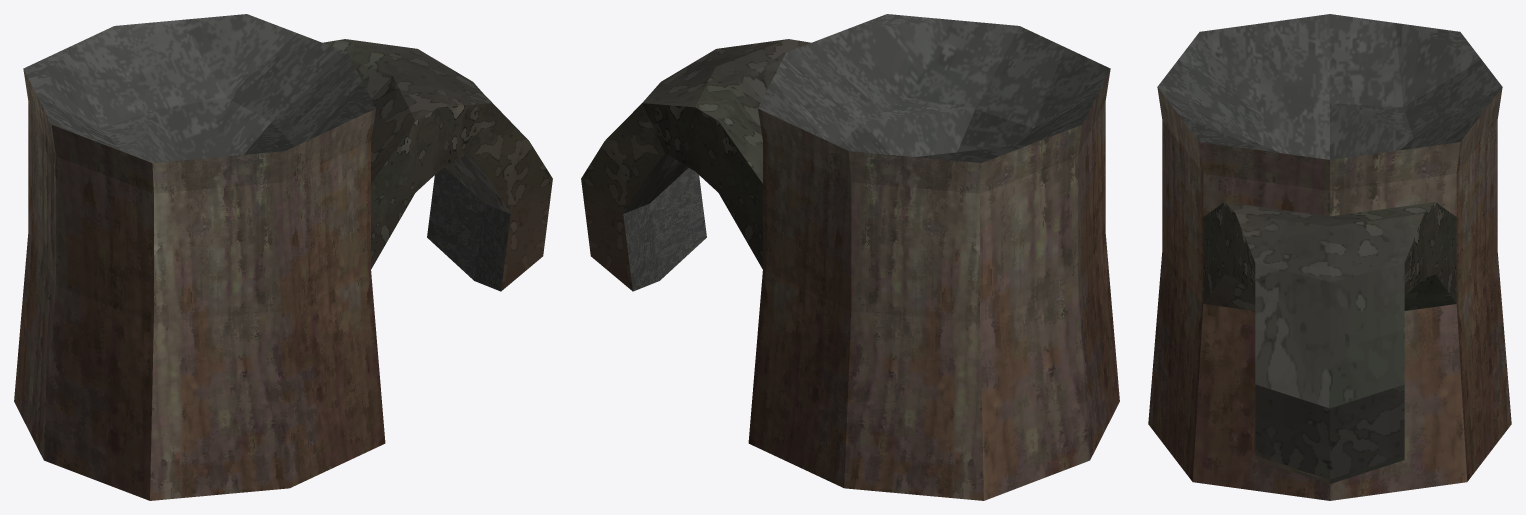
The model's file is beercup.fbx.
3 views of the same model, side by side, from view 1: azimuth 30°, elevation 25°; view 2: azimuth 150°, elevation 25°; view 3: azimuth 270°, elevation 25° (orthographic).
Visible parts, largest first — view 1: Cube; view 2: Cube; view 3: Cube.
Part boxes in pixels (bbox=[...]): Cube: bbox=[14, 14, 552, 500]; Cube: bbox=[581, 14, 1119, 500]; Cube: bbox=[1148, 14, 1511, 500].
Size of the model in its own units: 444 by 294 by 287.
